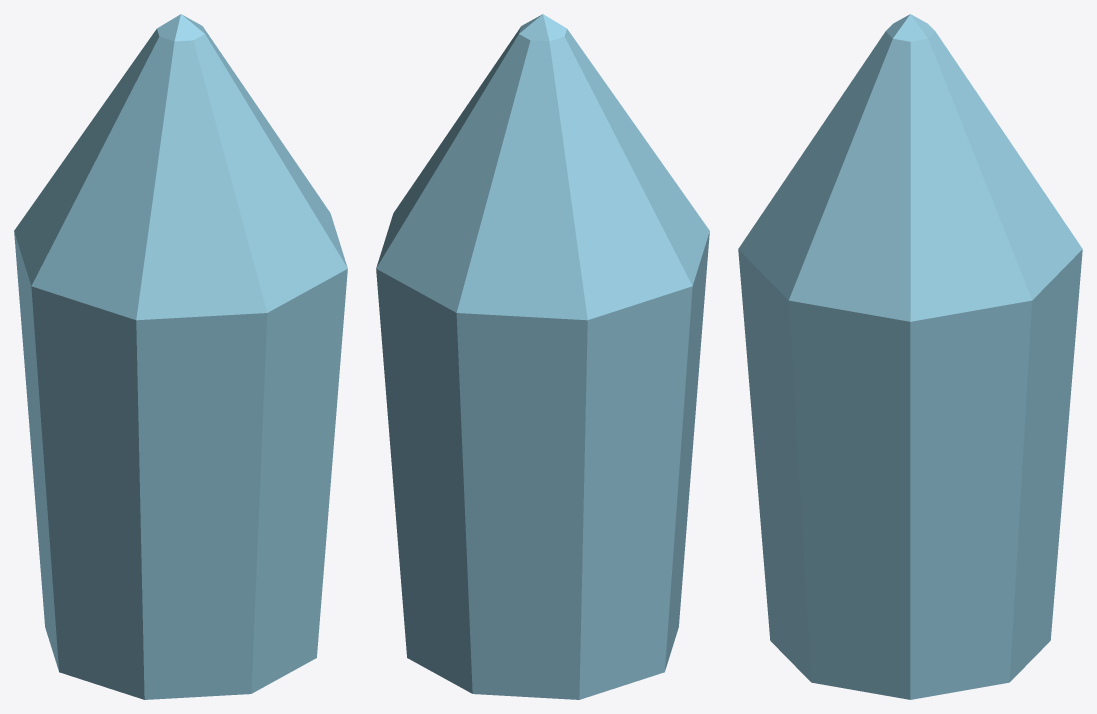
The model's file is Cristal1.fbx.
The picture shows the model from 3 angles, left to right: view 1: azimuth 30°, elevation 25°; view 2: azimuth 150°, elevation 25°; view 3: azimuth 270°, elevation 25°; orthographic projection.
Parts seen in each view (by area): view 1: cristal; view 2: cristal; view 3: cristal.
Boxes of the visible parts, x1=… form: cristal: x1=14, y1=14, x2=347, y2=699; cristal: x1=376, y1=14, x2=709, y2=699; cristal: x1=738, y1=14, x2=1082, y2=699.
Bounding box in the file's own units: 69.15 × 139 × 69.15.
